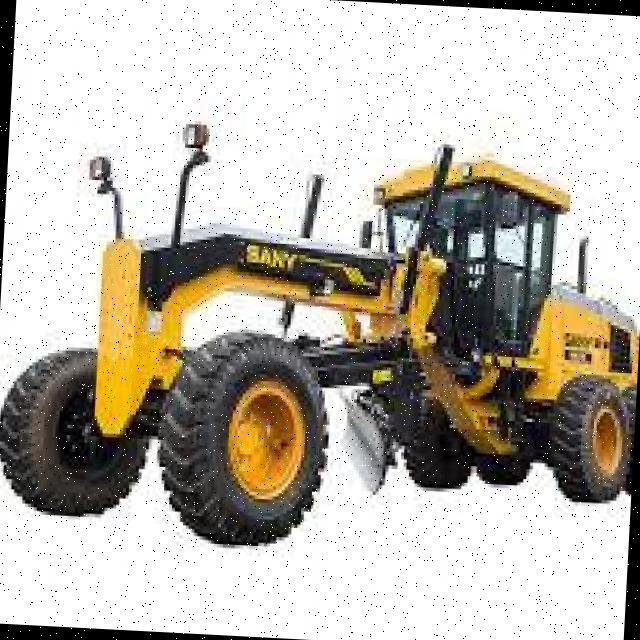Grader: (0, 84, 640, 558)
